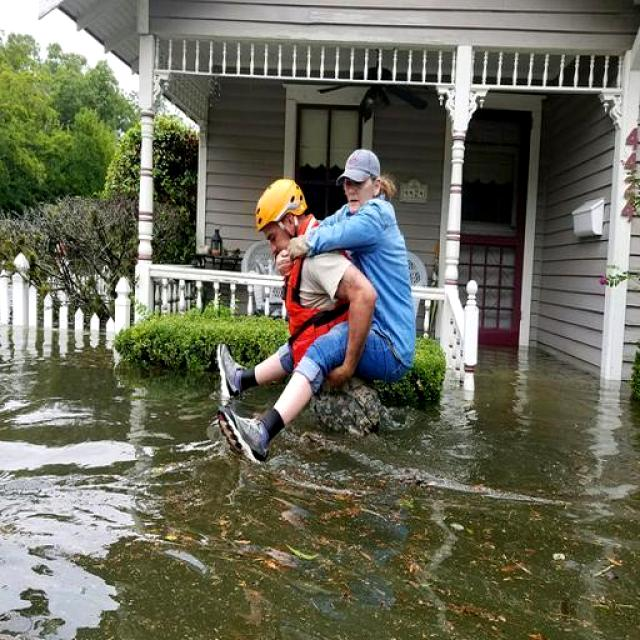civilian: (208, 122, 440, 476)
rescuer: (243, 168, 381, 439)
